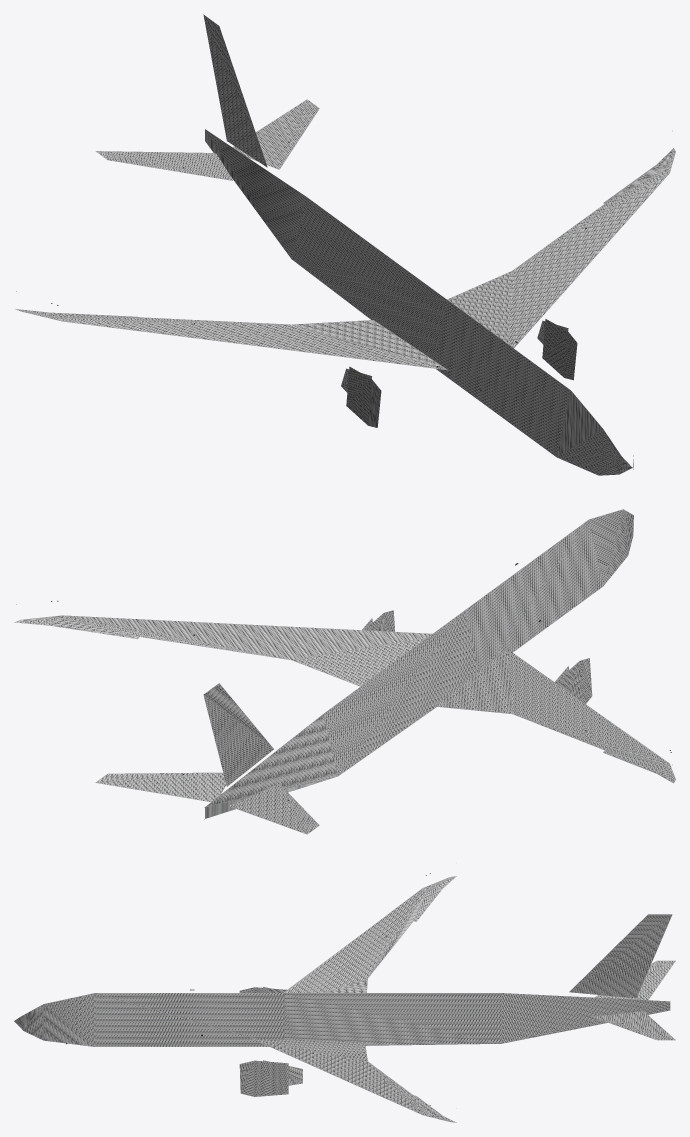
The model's file is TFS_B773PW_LOD1.gltf.
3 views of the same model, one above another, from view 1: azimuth 30°, elevation 25°; view 2: azimuth 150°, elevation 25°; view 3: azimuth 270°, elevation 25° (orthographic). The views are drawn at different scales.
Parts seen in each view (by area): view 1: low_poly_model; view 2: low_poly_model; view 3: low_poly_model.
Part boxes in pixels (x1,y1,x2,y2): low_poly_model: [15, 14, 675, 475]; low_poly_model: [14, 509, 675, 834]; low_poly_model: [14, 876, 675, 1122].
Size of the model in its own units: 65.39 by 17.6 by 74.09.
